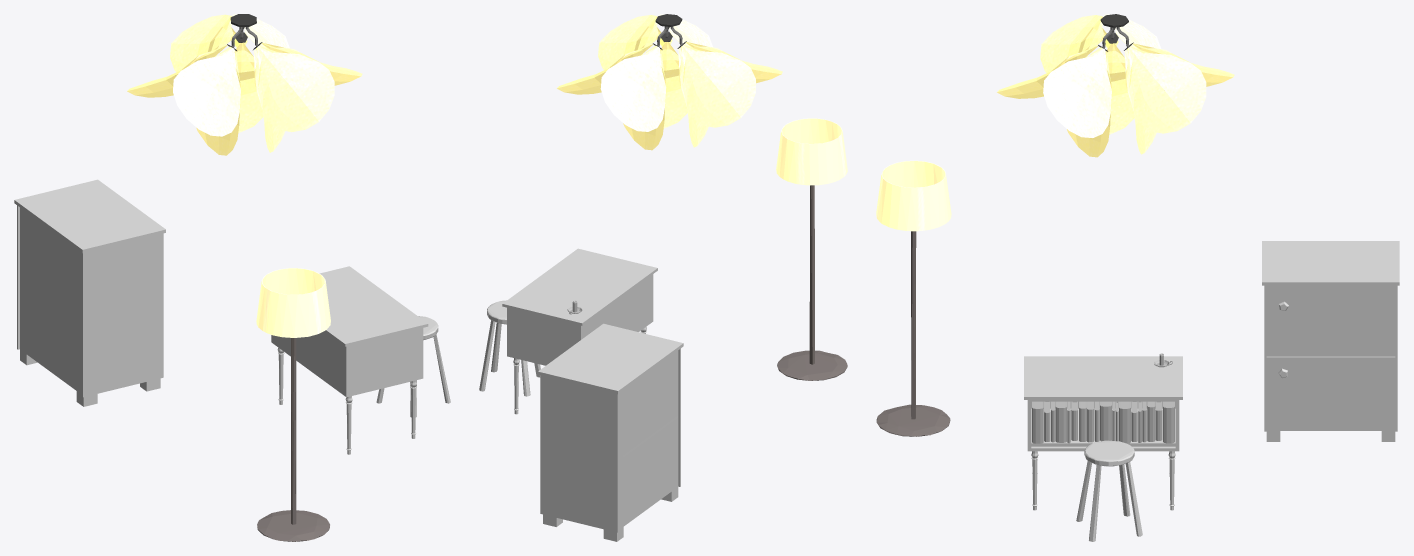
File: LamparaPiso.fbx
3 views of the same model, side by side, from view 1: azimuth 30°, elevation 25°; view 2: azimuth 150°, elevation 25°; view 3: azimuth 270°, elevation 25° (orthographic). The views are drawn at different scales.
Visible parts, largest first — view 1: Mueble, Lampara flor, Mesa, Lampara palo, Taburete; view 2: Mueble, Lampara flor, Mesa, Lampara palo, Taburete; view 3: Mueble, Lampara flor, Mesa, Lampara palo, Cube, Taburete.
Part boxes in pixels (box(x1,y1,x2,y2)): Mueble: box(14, 179, 165, 406); Lampara flor: box(127, 14, 362, 155); Mesa: box(271, 266, 428, 454); Lampara palo: box(256, 268, 330, 541); Taburete: box(376, 316, 450, 417); Mueble: box(538, 323, 683, 541); Lampara flor: box(557, 14, 782, 150); Mesa: box(502, 248, 657, 414); Lampara palo: box(776, 118, 847, 380); Taburete: box(479, 300, 540, 396); Mueble: box(1262, 241, 1399, 441); Lampara flor: box(997, 14, 1234, 157); Mesa: box(1024, 356, 1182, 510); Lampara palo: box(876, 160, 951, 436); Cube: box(1032, 401, 1174, 443); Taburete: box(1076, 440, 1142, 541).
Bounding box in the file's own units: 853 × 1163 × 1296.
